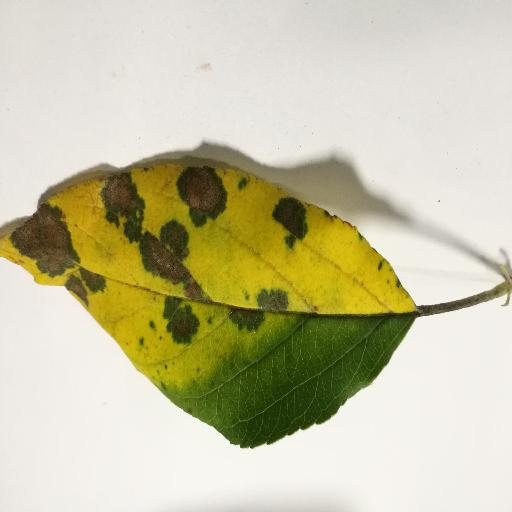Brown_Spot: (8, 208, 105, 309), (134, 229, 219, 313), (172, 168, 233, 224), (98, 176, 152, 226)
